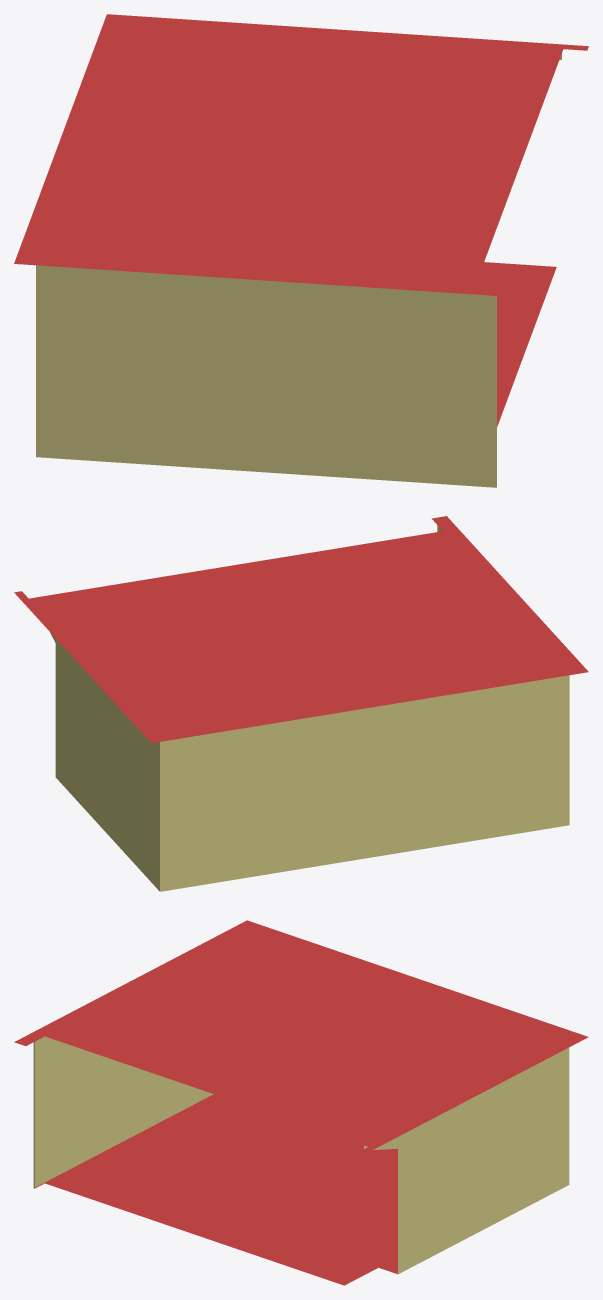
3 views of the same model, one above another, from view 1: azimuth 30°, elevation 25°; view 2: azimuth 150°, elevation 25°; view 3: azimuth 270°, elevation 25° (orthographic). The views are drawn at different scales.
Size of the model in its own units: 29.63 by 30.69 by 8.66.
